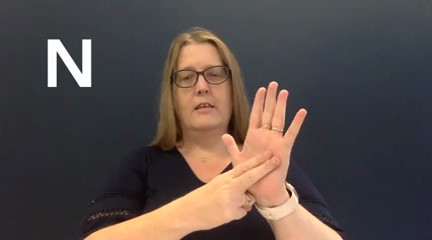N: (183, 79, 309, 229)
